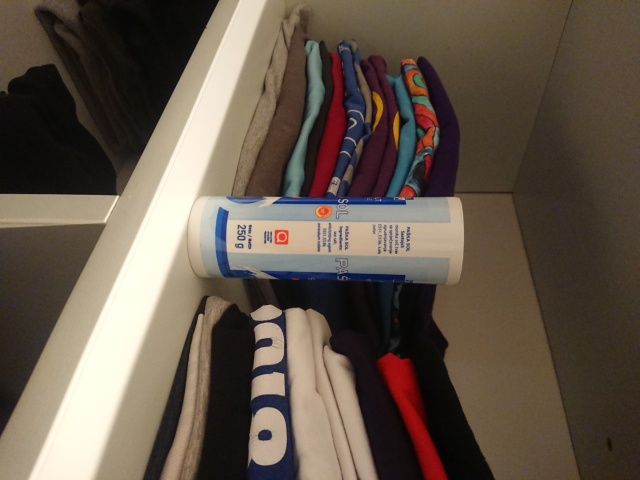Solana Pag Fine Sea Salt 250g: (184, 193, 466, 289)
